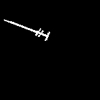treble_crochet: (5, 20, 49, 40)
